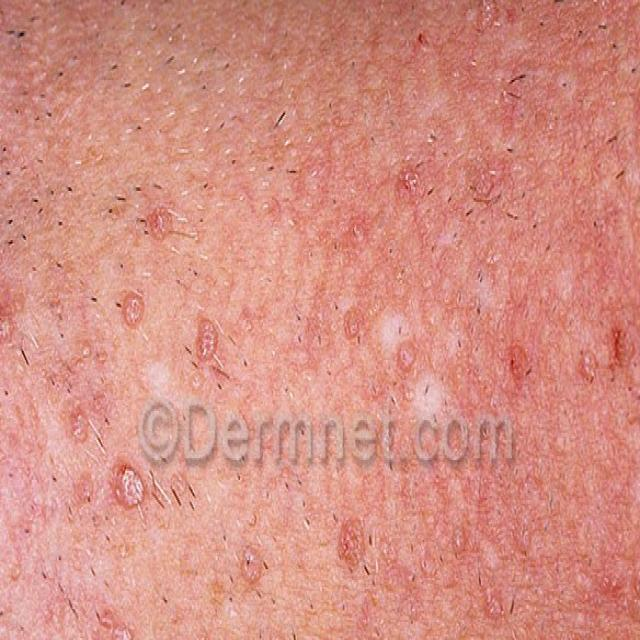Warts: (326, 496, 383, 597), (562, 340, 629, 401), (228, 529, 275, 610), (133, 189, 191, 252), (110, 450, 152, 532), (113, 281, 160, 349), (188, 301, 227, 376), (0, 278, 27, 385), (498, 329, 534, 399), (392, 147, 427, 214), (81, 607, 149, 640), (63, 403, 103, 458), (340, 200, 378, 255)
